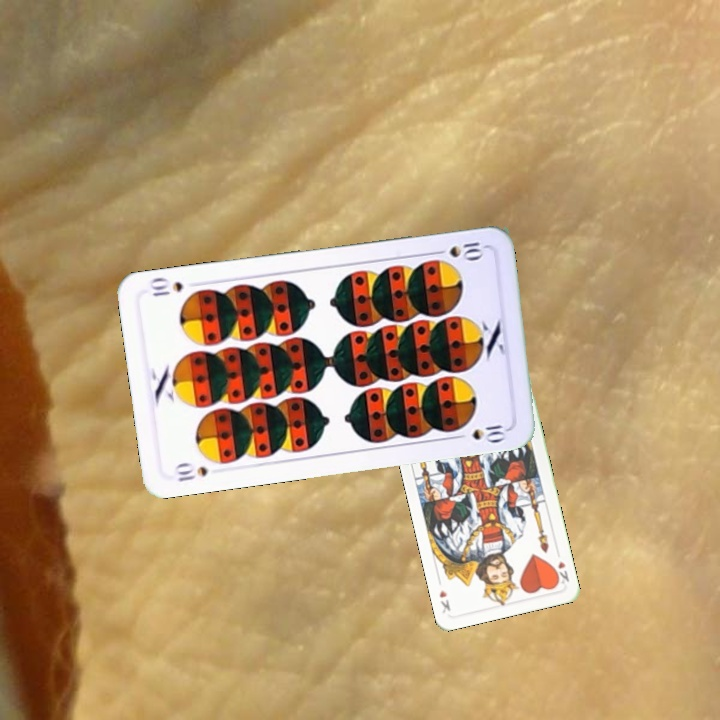HK: (550, 557, 572, 588)
S10: (429, 238, 486, 261), (173, 462, 210, 485)
